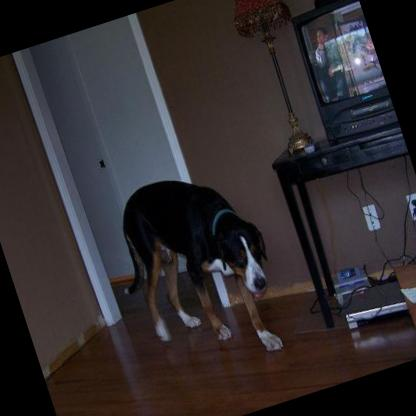Greater_Swiss_Mountain_dog: (94, 154, 298, 390)
